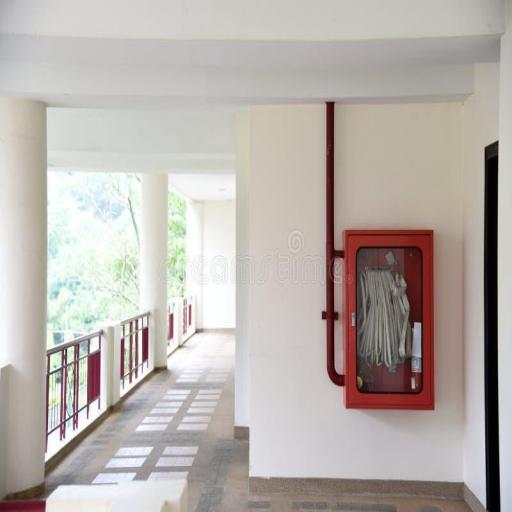fire_hose: (342, 225, 438, 415)
